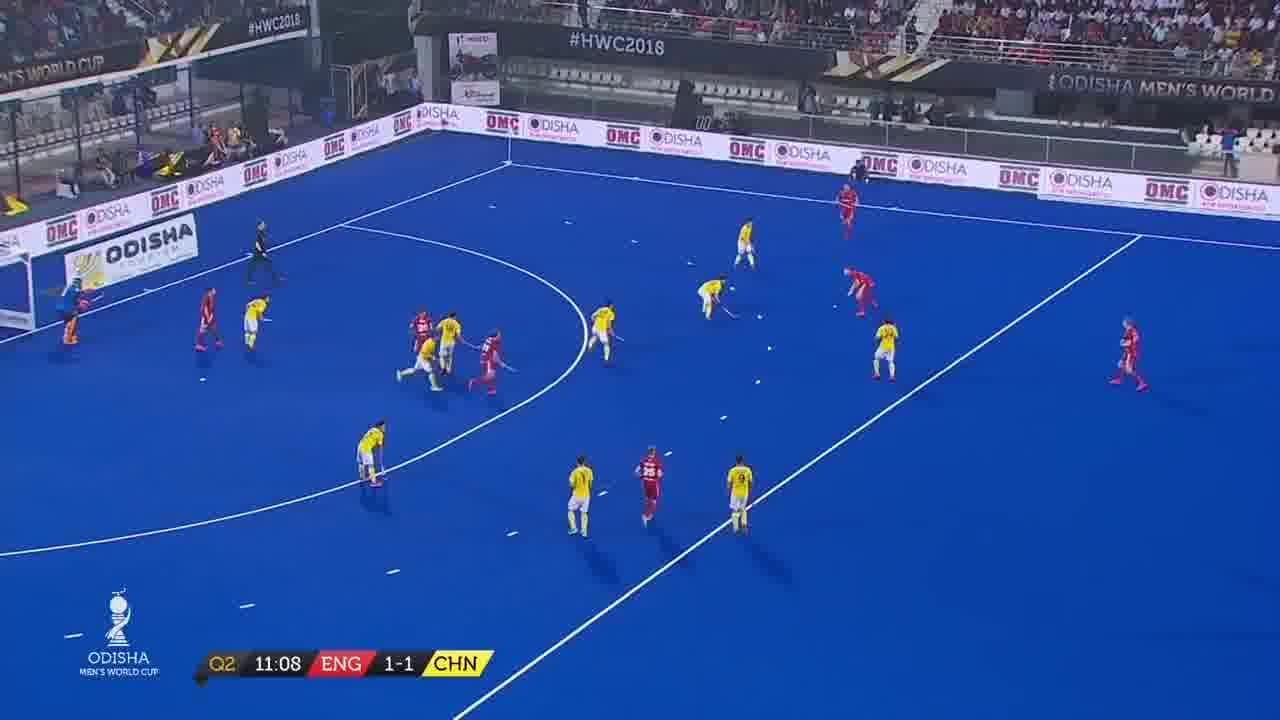ball: (832, 303, 839, 310)
